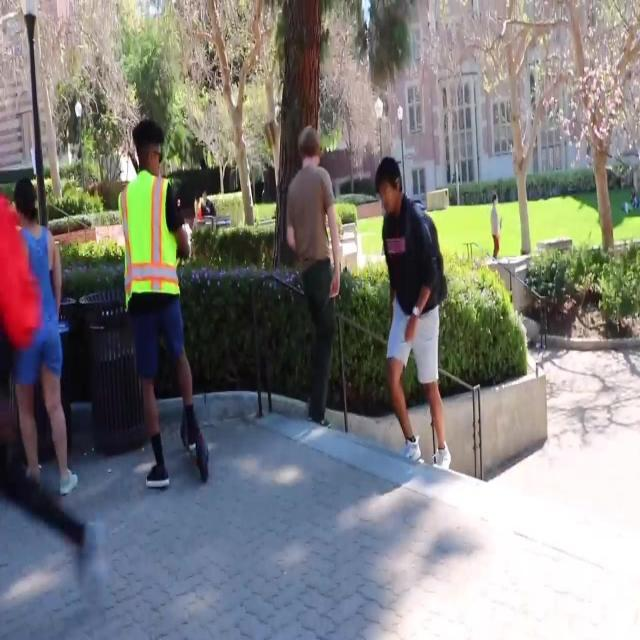Vest: (117, 171, 181, 301)
